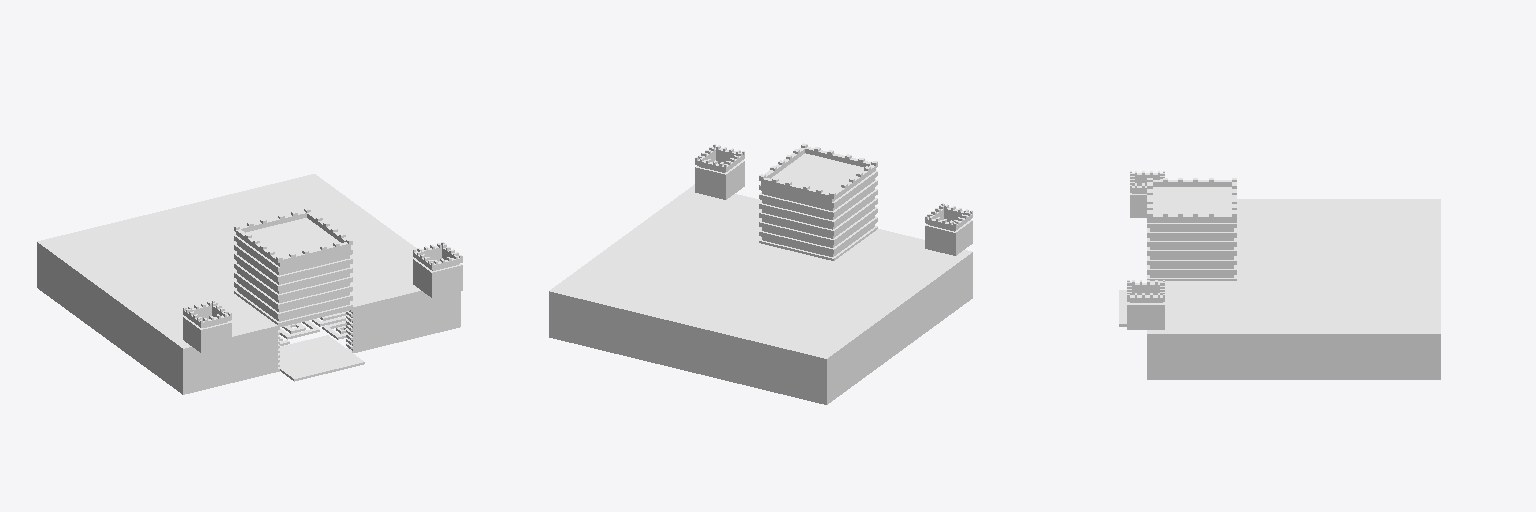
Rendered from castelinho.obj.
3 views of the same model, side by side, from view 1: azimuth 30°, elevation 25°; view 2: azimuth 150°, elevation 25°; view 3: azimuth 270°, elevation 25° (orthographic).
Bounding box in the file's own units: 126 × 49 × 126.